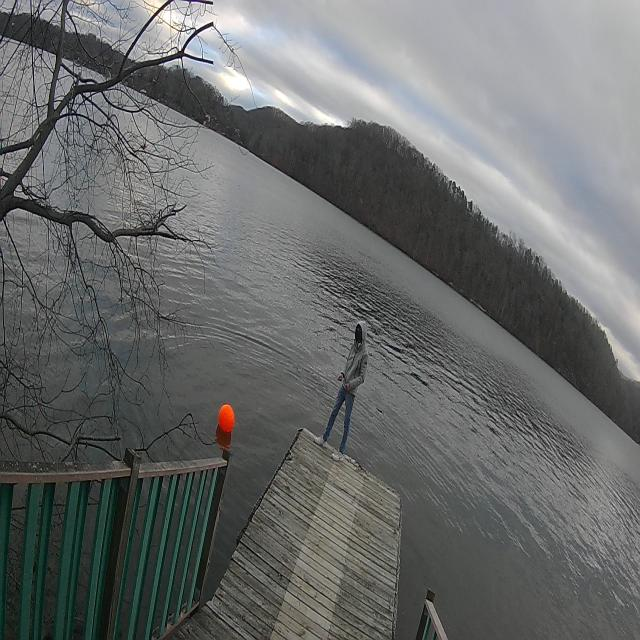Buoy: (214, 398, 238, 442)
